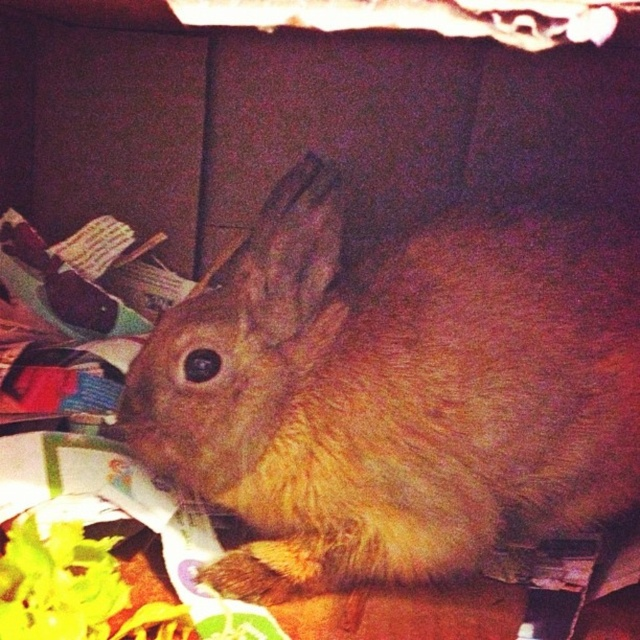Rabbit: (115, 155, 639, 609)
